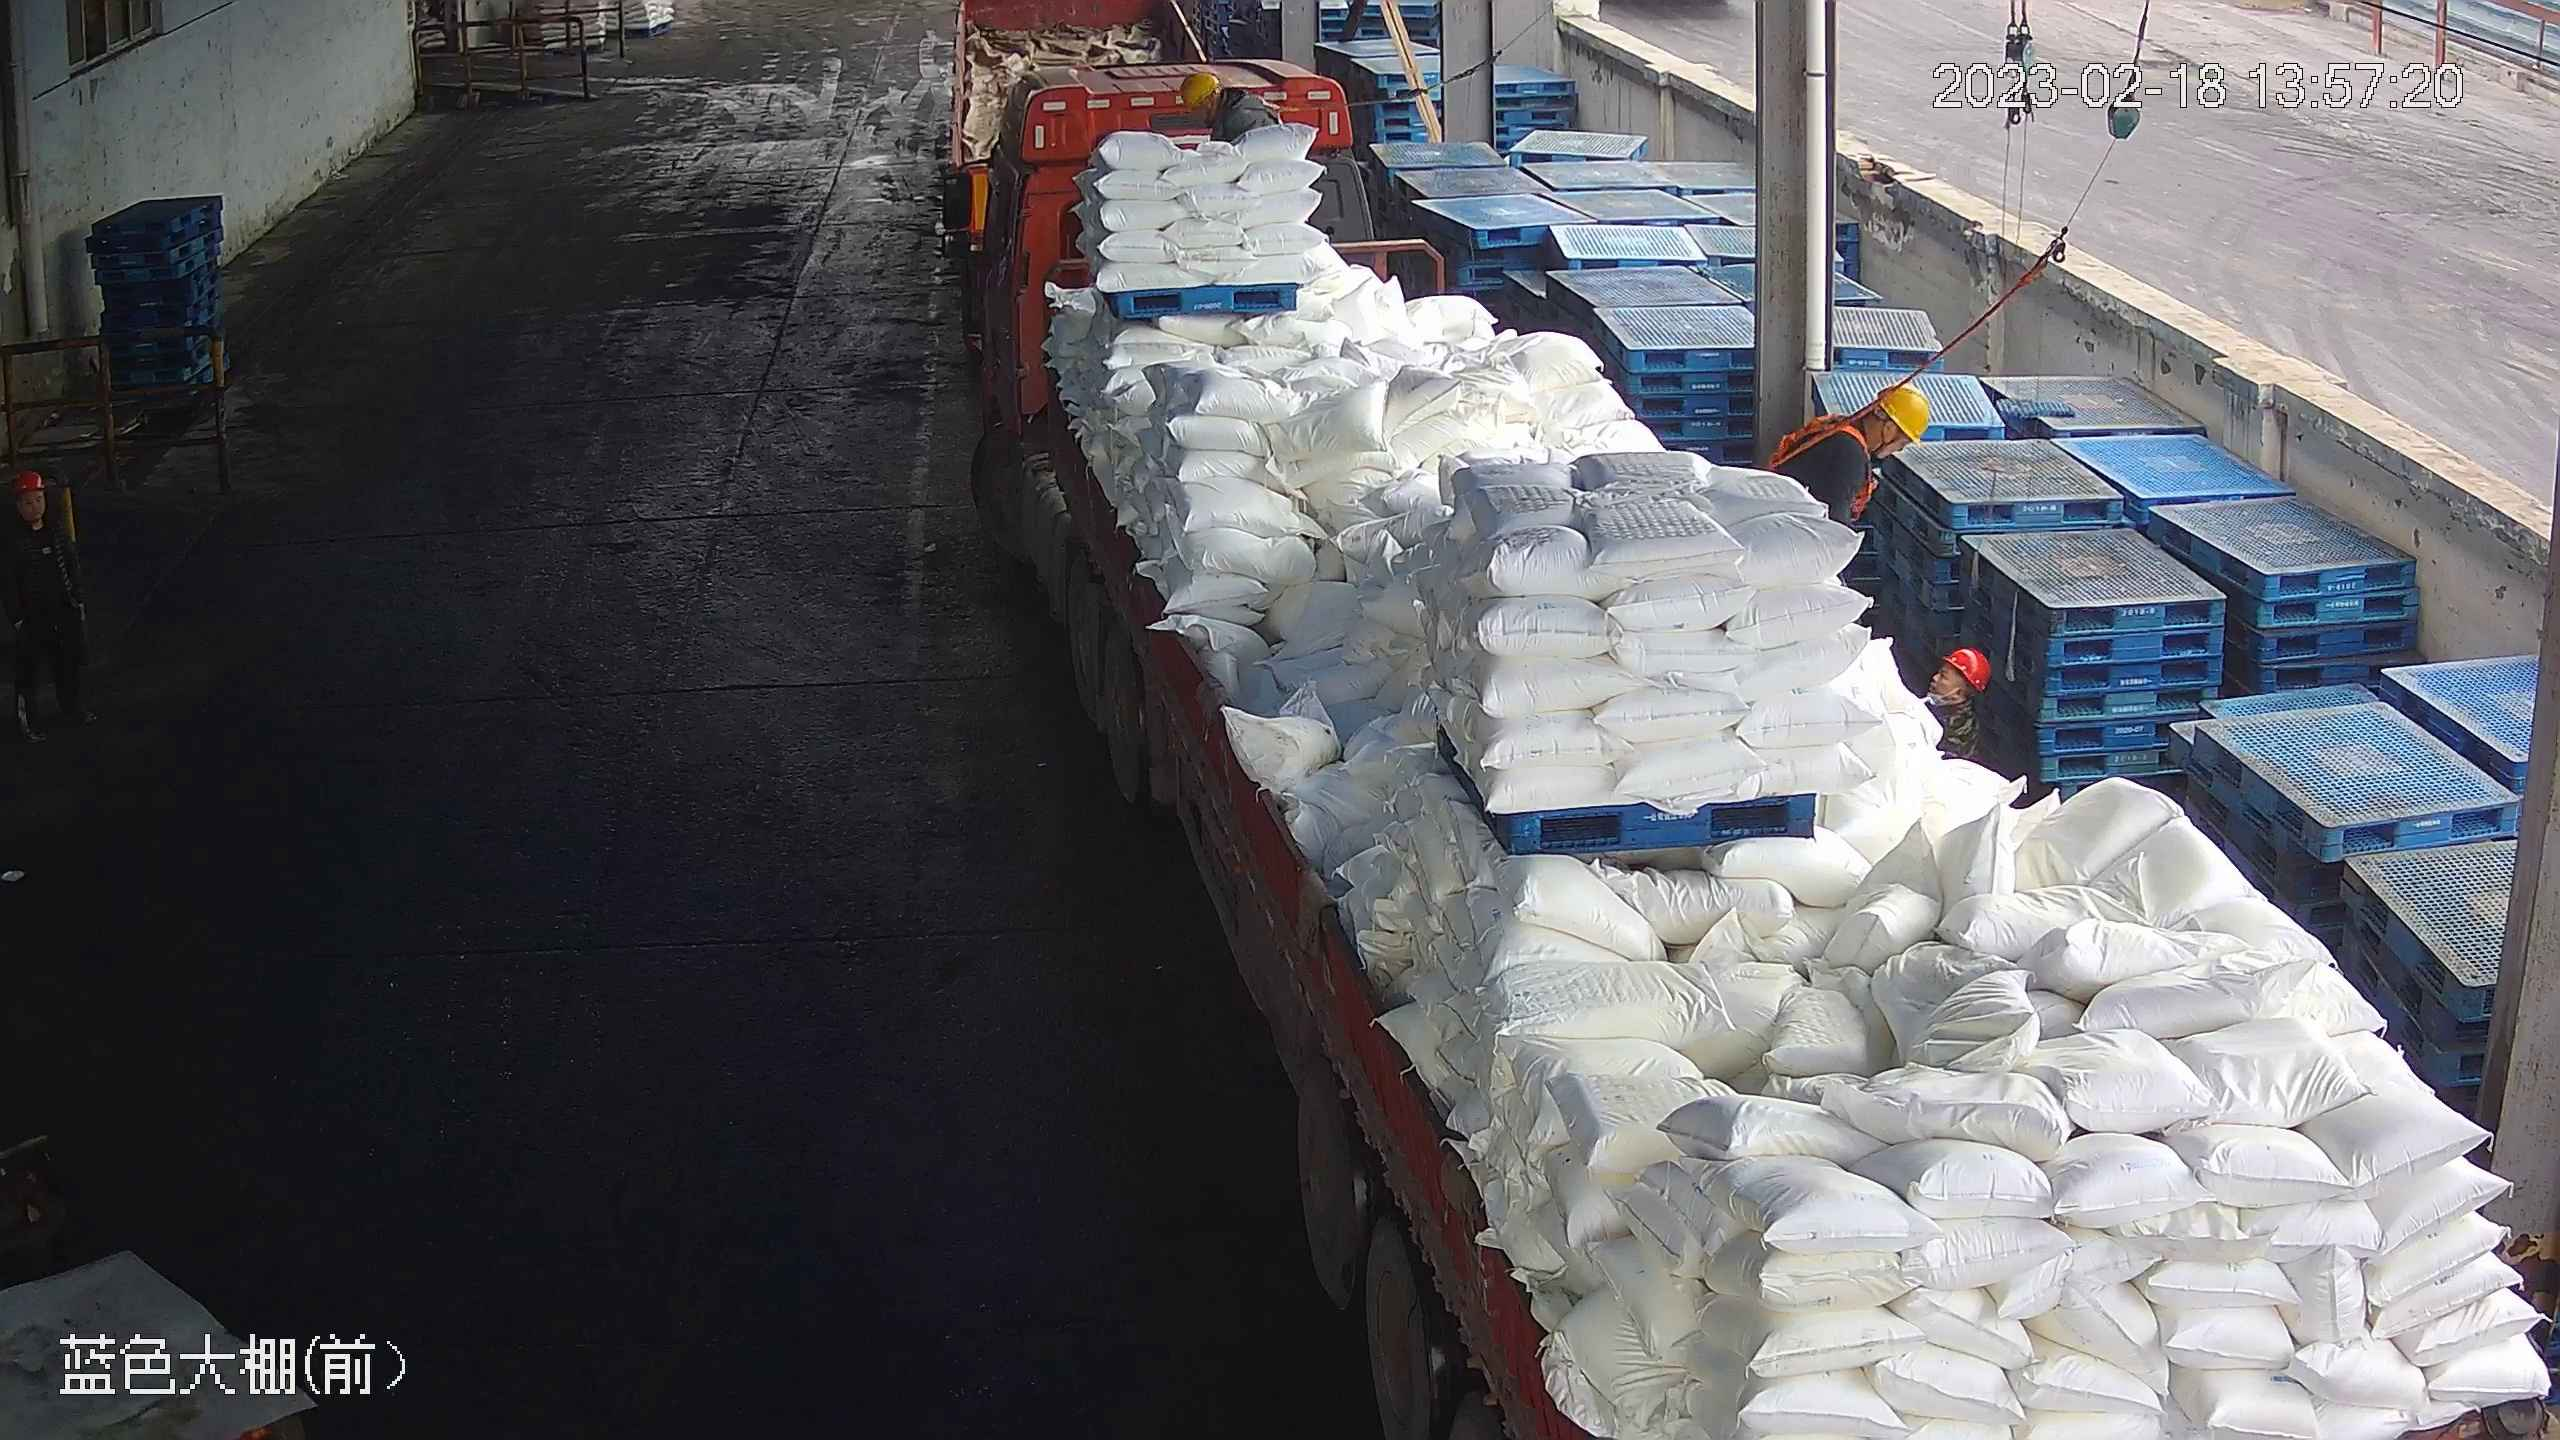belt: (1782, 413, 1881, 515)
head: (1800, 379, 1934, 484), (1176, 65, 1259, 126)
helmet: (1874, 377, 1934, 447), (1938, 644, 1988, 696), (1175, 66, 1224, 108)
truck: (951, 86, 2555, 1440)
